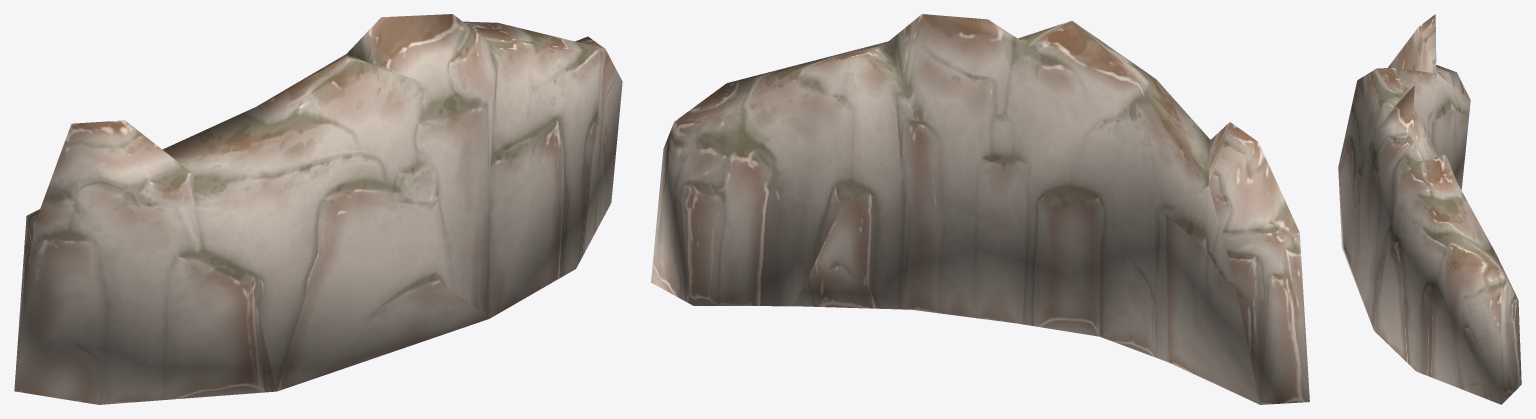
File: Rock Wall 3.fbx
3 renders of one model, left to right at view 1: azimuth 30°, elevation 25°; view 2: azimuth 150°, elevation 25°; view 3: azimuth 270°, elevation 25°, orthographic. The views are drawn at different scales.
Parts seen in each view (by area): view 1: Rock_Wall_3; view 2: Rock_Wall_3; view 3: Rock_Wall_3.
Part boxes in pixels (bbox=[...]): Rock_Wall_3: bbox=[14, 14, 622, 404]; Rock_Wall_3: bbox=[651, 14, 1309, 404]; Rock_Wall_3: bbox=[1338, 14, 1521, 404].
Bounding box in the file's own units: 10139 × 4542 × 3479.
Materials: 1 (1 with a texture image).
